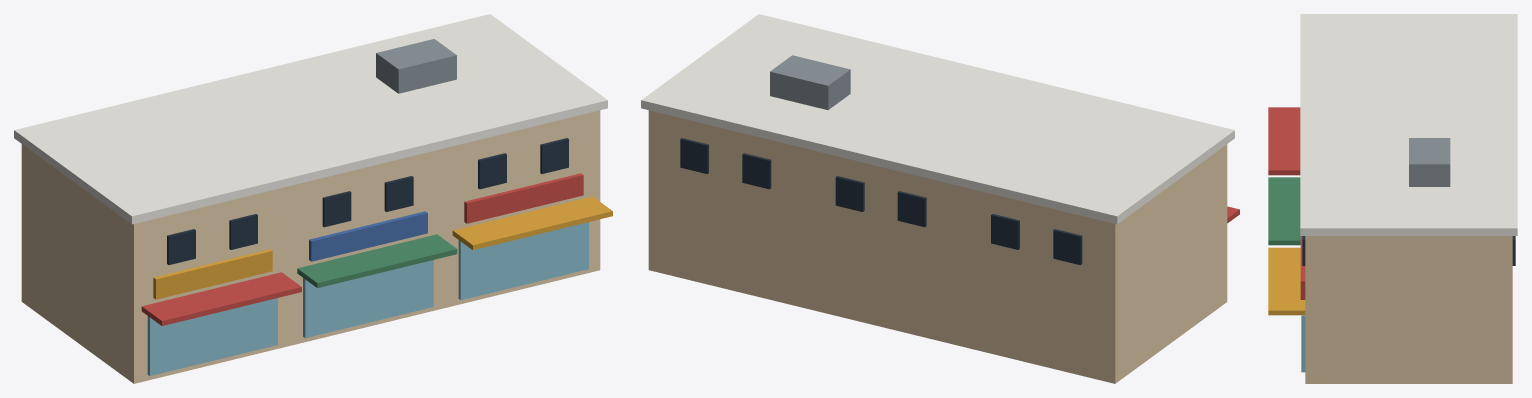
The model's file is shops_0.glb.
3 renders of one model, left to right at view 1: azimuth 30°, elevation 25°; view 2: azimuth 150°, elevation 25°; view 3: azimuth 270°, elevation 25°, orthographic. The views are drawn at different scales.
Visible parts, largest first — view 1: Cube.001; view 2: Cube.001; view 3: Cube.001.
Boxes of the visible parts, x1,y1,x2,y2 form: Cube.001: [14, 14, 612, 383]; Cube.001: [641, 14, 1239, 383]; Cube.001: [1268, 14, 1517, 383].
Bounding box in the file's own units: 24.5 × 9.6 × 12.05.
